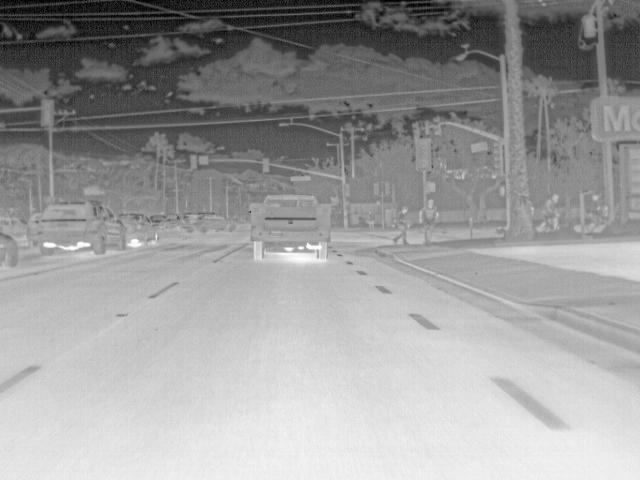car: (246, 192, 329, 264), (39, 199, 126, 257), (117, 212, 159, 249), (181, 210, 240, 232), (0, 231, 25, 267), (27, 212, 43, 250), (0, 218, 28, 236), (151, 213, 169, 232), (166, 212, 182, 229)
person: (418, 197, 440, 247), (390, 205, 411, 245), (540, 193, 560, 234), (588, 194, 602, 226), (365, 209, 376, 231)
